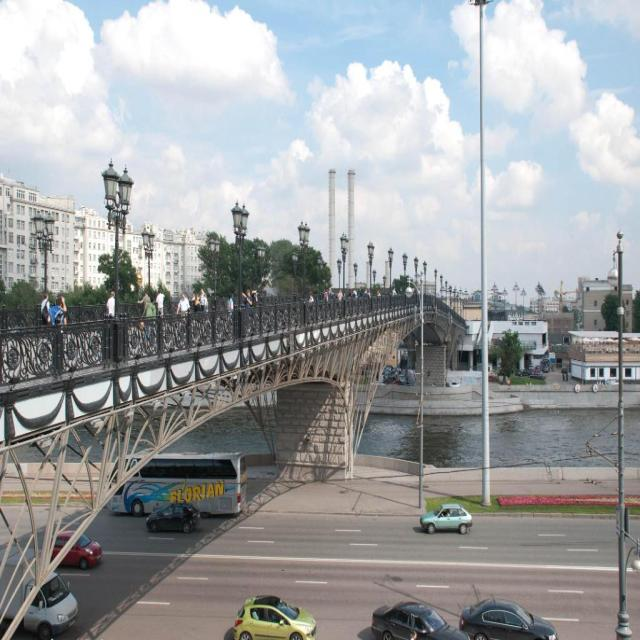car: (143, 497, 198, 534), (420, 502, 471, 534)
